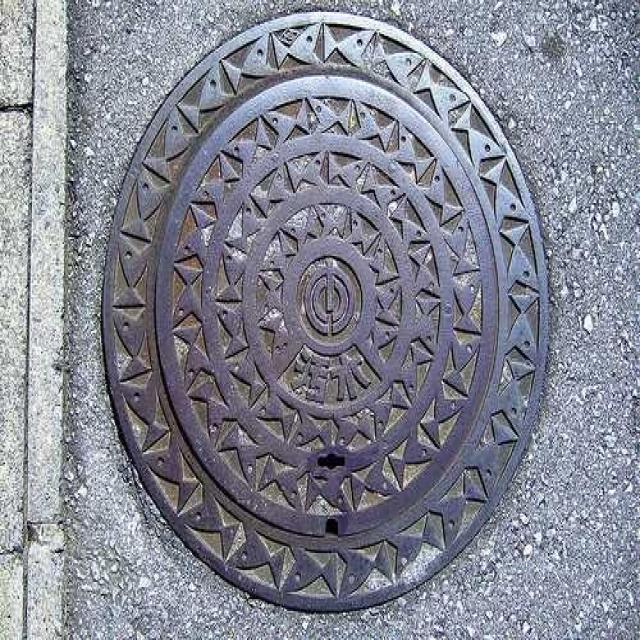manhole: (104, 13, 547, 611)
